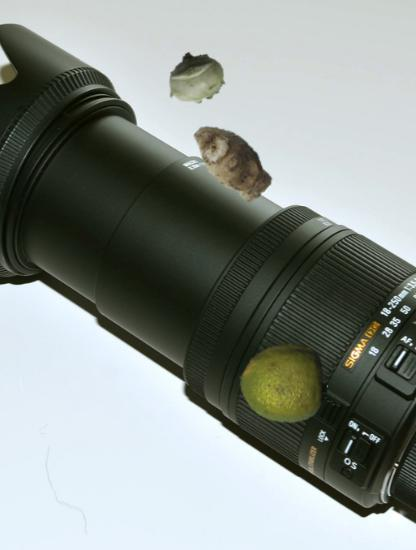Ginger: (185, 115, 278, 208)
Kohlrabi: (164, 48, 225, 109)
Limes: (239, 337, 328, 426)
